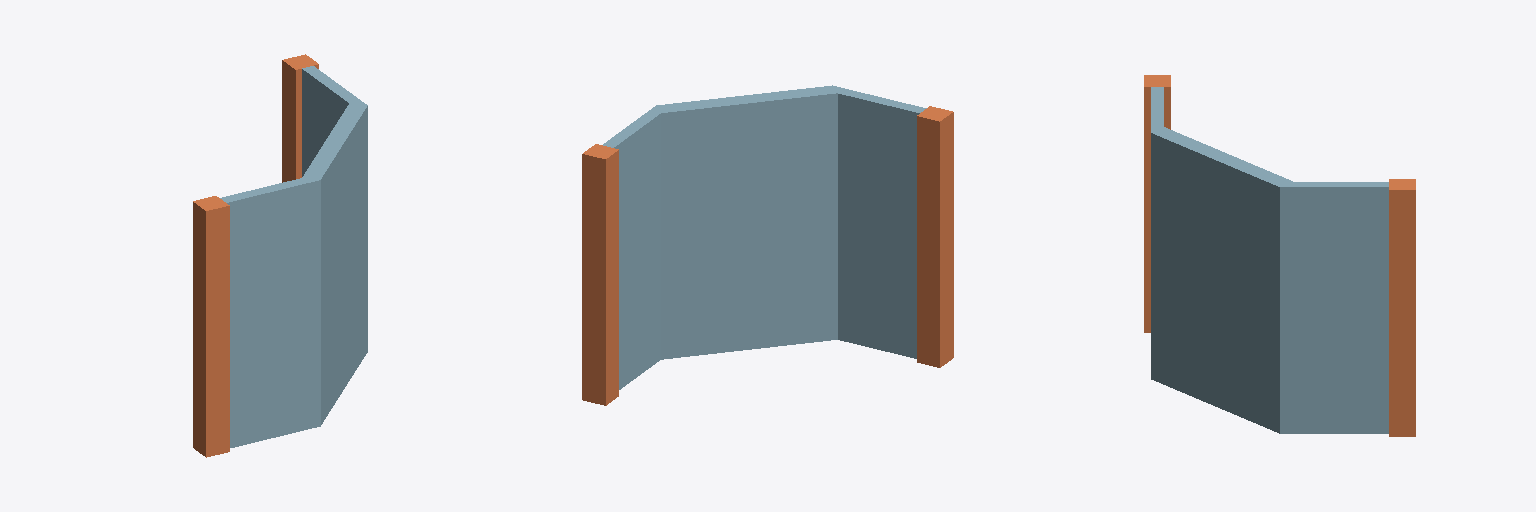
Rendered from wallCornerDiagonal.obj.
3 renders of one model, left to right at view 1: azimuth 30°, elevation 25°; view 2: azimuth 150°, elevation 25°; view 3: azimuth 270°, elevation 25°, orthographic.
Visible parts, largest first — view 1: wallCornerDiagonal; view 2: wallCornerDiagonal; view 3: wallCornerDiagonal.
Part boxes in pixels (left/top/right/bottom): wallCornerDiagonal: left=193, top=54, right=367, bottom=457; wallCornerDiagonal: left=582, top=85, right=953, bottom=405; wallCornerDiagonal: left=1144, top=75, right=1415, bottom=436.
Size of the model in its own units: 1 by 1 by 1.